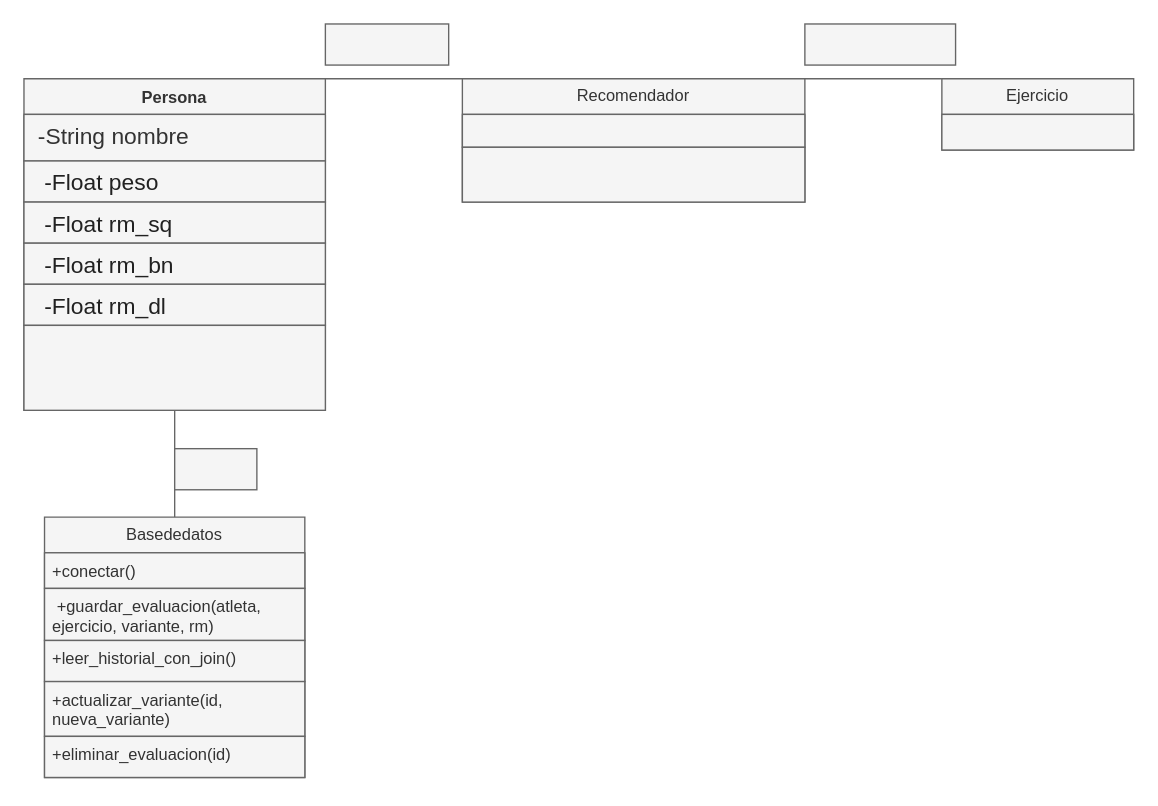
Image size: 1158x806. Some labels were removed from this diagram. Here are the shapes that lost their labels. From the top down, the centre of each, then its label:
the point at 386,44: es evaluada por
the point at 880,44: asigna variante a
the point at 633,130: +buscar(movimiento, fase_fallo)
the point at 1037,131: +String nombre
the point at 633,174: +generar_rutina_completa(movimiento, variante)
the point at 174,367: +evaluar_y_obtener_peor() +mostrar_tabla_rm
the point at 215,468: persiste datos
